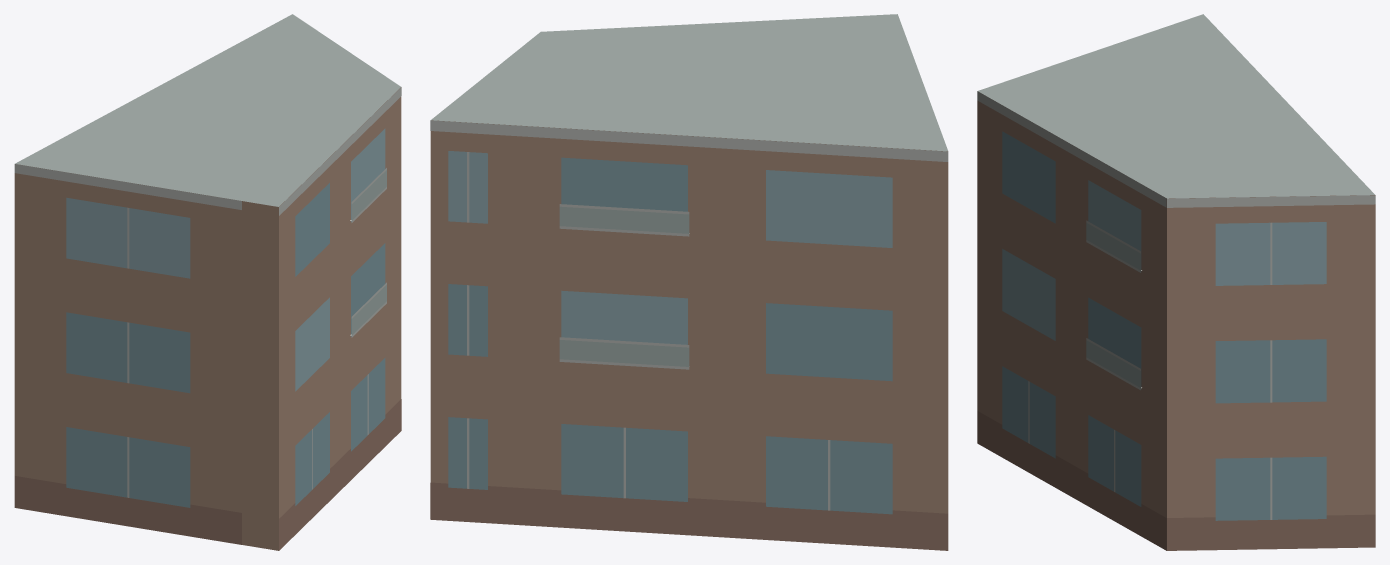
File: survey-upis-32490725.glb
3 views of the same model, side by side, from view 1: azimuth 30°, elevation 25°; view 2: azimuth 150°, elevation 25°; view 3: azimuth 270°, elevation 25° (orthographic). The views are drawn at different scales.
Visible parts, largest first — view 1: survey-upis-32490725.tmp; view 2: survey-upis-32490725.tmp; view 3: survey-upis-32490725.tmp.
Boxes of the visible parts, x1,y1,x2,y2 form: survey-upis-32490725.tmp: (14,14,401,550); survey-upis-32490725.tmp: (430,14,948,550); survey-upis-32490725.tmp: (977,14,1375,550).
Bounding box in the file's own units: 10.23 × 9.1 × 9.33.
